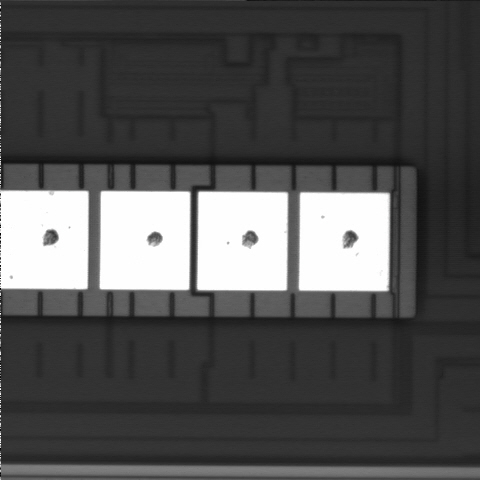pad: (197, 192, 288, 290), (100, 191, 190, 290), (299, 193, 389, 291)
